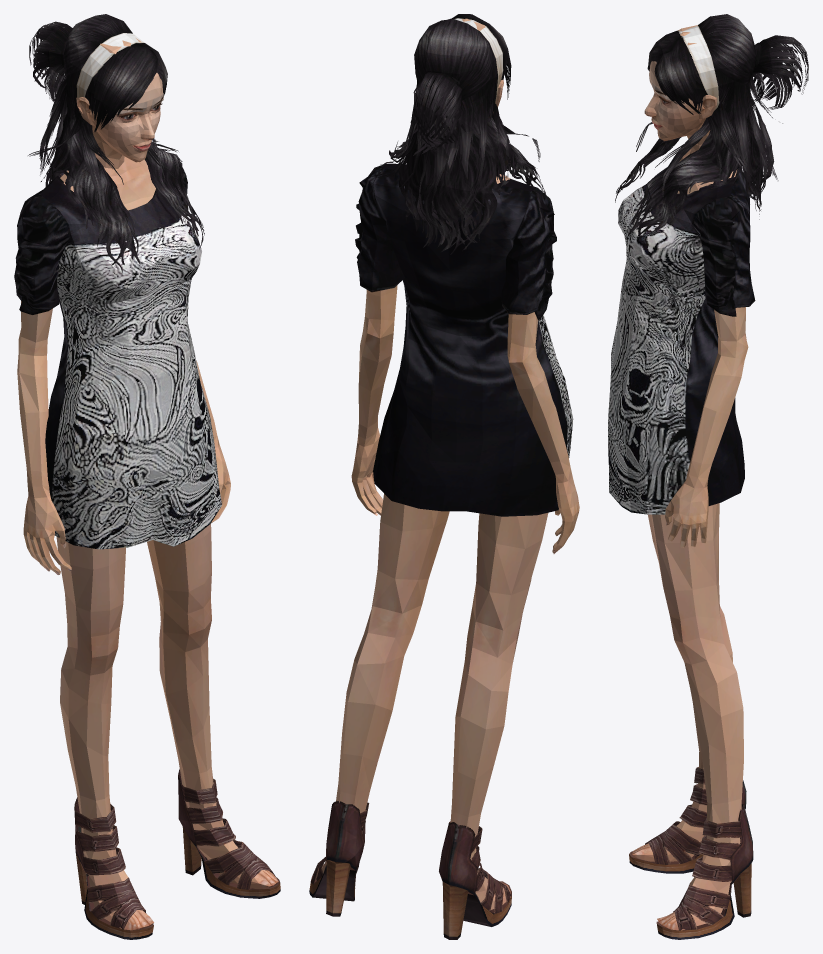
File: girl.obj
3 views of the same model, side by side, from view 1: azimuth 30°, elevation 25°; view 2: azimuth 150°, elevation 25°; view 3: azimuth 270°, elevation 25° (orthographic). The views are drawn at different scales.
Parts seen in each view (by area): view 1: Mesh_Mesh_Mesh_girl_pivot; view 2: Mesh_Mesh_Mesh_girl_pivot; view 3: Mesh_Mesh_Mesh_girl_pivot.
Boxes of the visible parts, x1,y1,x2,y2 form: Mesh_Mesh_Mesh_girl_pivot: (14, 14, 280, 939); Mesh_Mesh_Mesh_girl_pivot: (309, 14, 579, 939); Mesh_Mesh_Mesh_girl_pivot: (608, 14, 808, 939).
Bounding box in the file's own units: 0.5415 × 1.84 × 0.3929.
